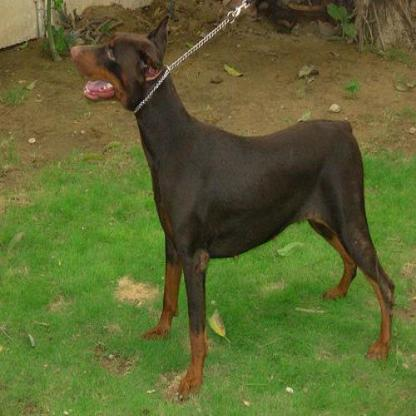Doberman: (69, 29, 395, 401)
